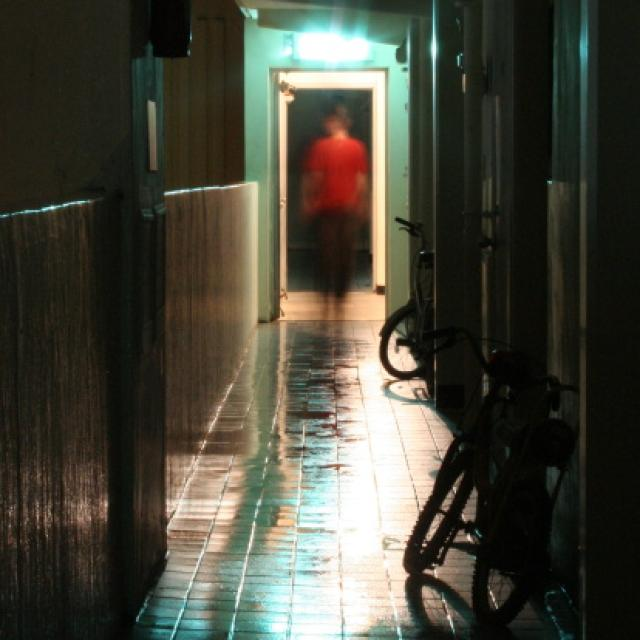Bicycle: (431, 368, 584, 640), (391, 210, 500, 394)
People: (288, 85, 370, 277)
